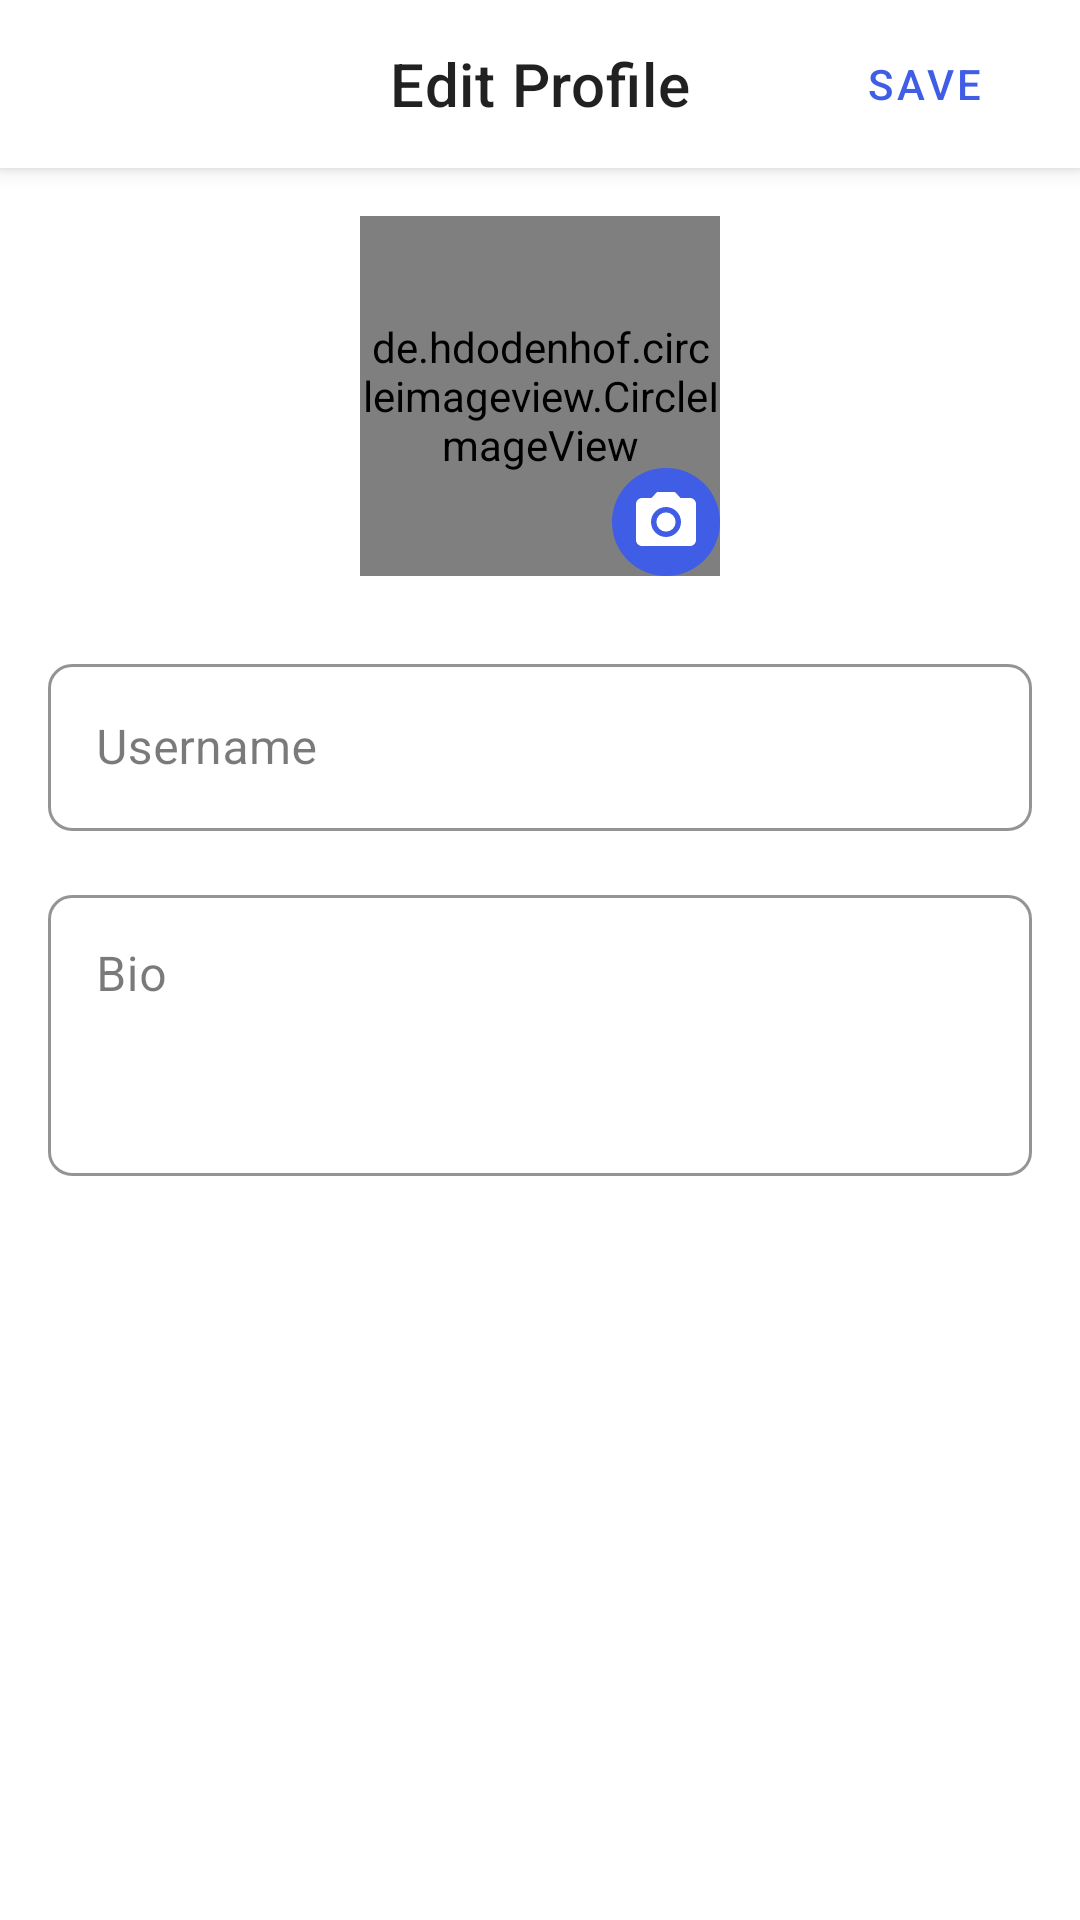

Point at icon controls on the screen. Image size 1080x1920, points as point (x, y).
Change Profile Picture: point (666, 522)
